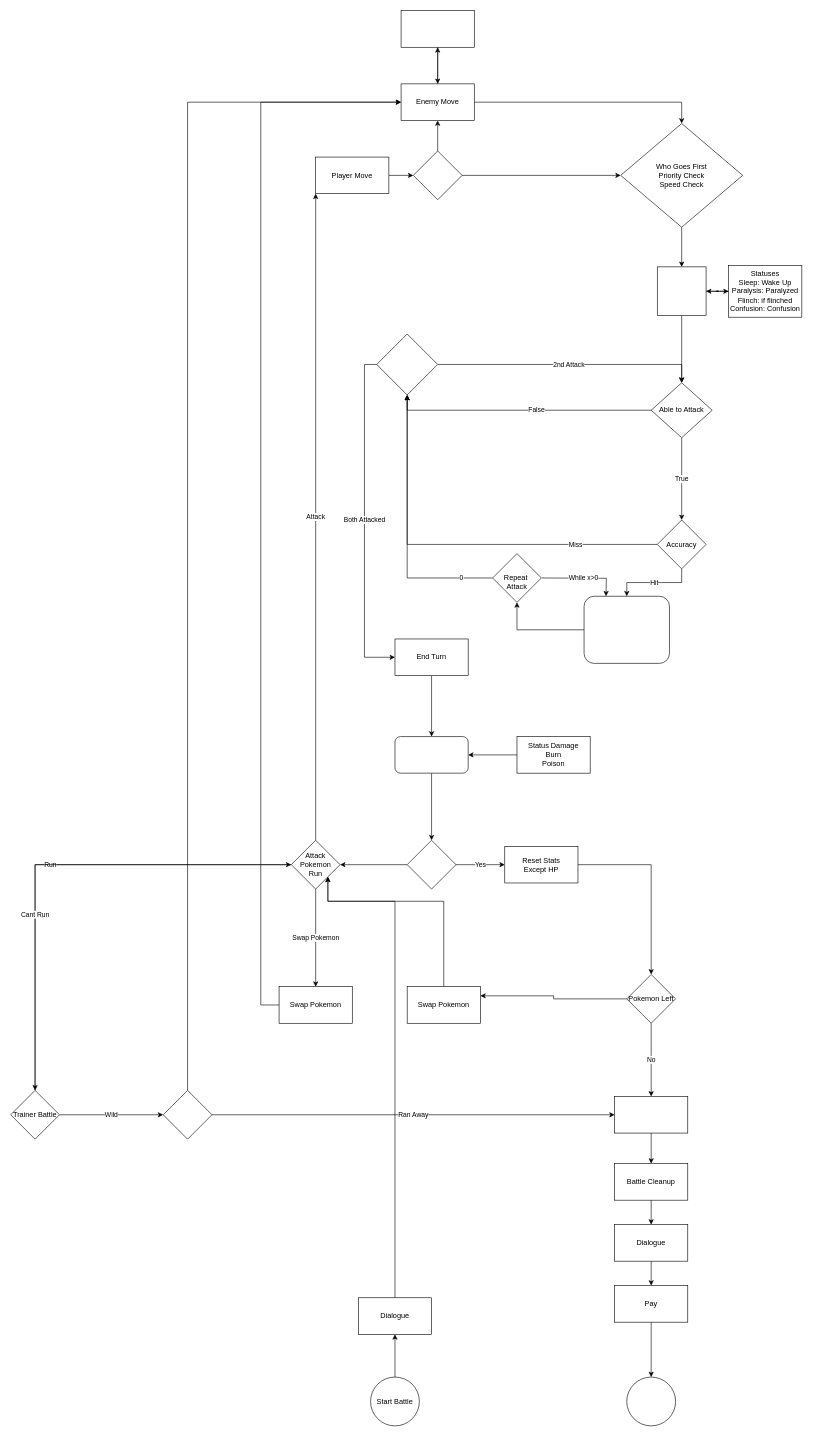
Image size: 813x1437. Some labels were removed from this diagram. Here are the shapes that lost their labels. From the top down, the centre of each, then its label:
At point (437, 28): "Enemy Decision".
At point (437, 175): "Multi Turn Attack".
At point (681, 291): "Begin Turn Status Update".
At point (407, 364): "Player That Didint Attack".
At point (626, 629): "Damage Heal Update Stages Apply Status Changes".
At point (431, 754): "End Turn Status Updates Decrement Counter Status Damage".
At point (431, 864): "Pokemon Dead?".
At point (187, 1114): "Can't Escape".
At point (651, 1114): "End Combat".
At point (651, 1401): "Overworld".
